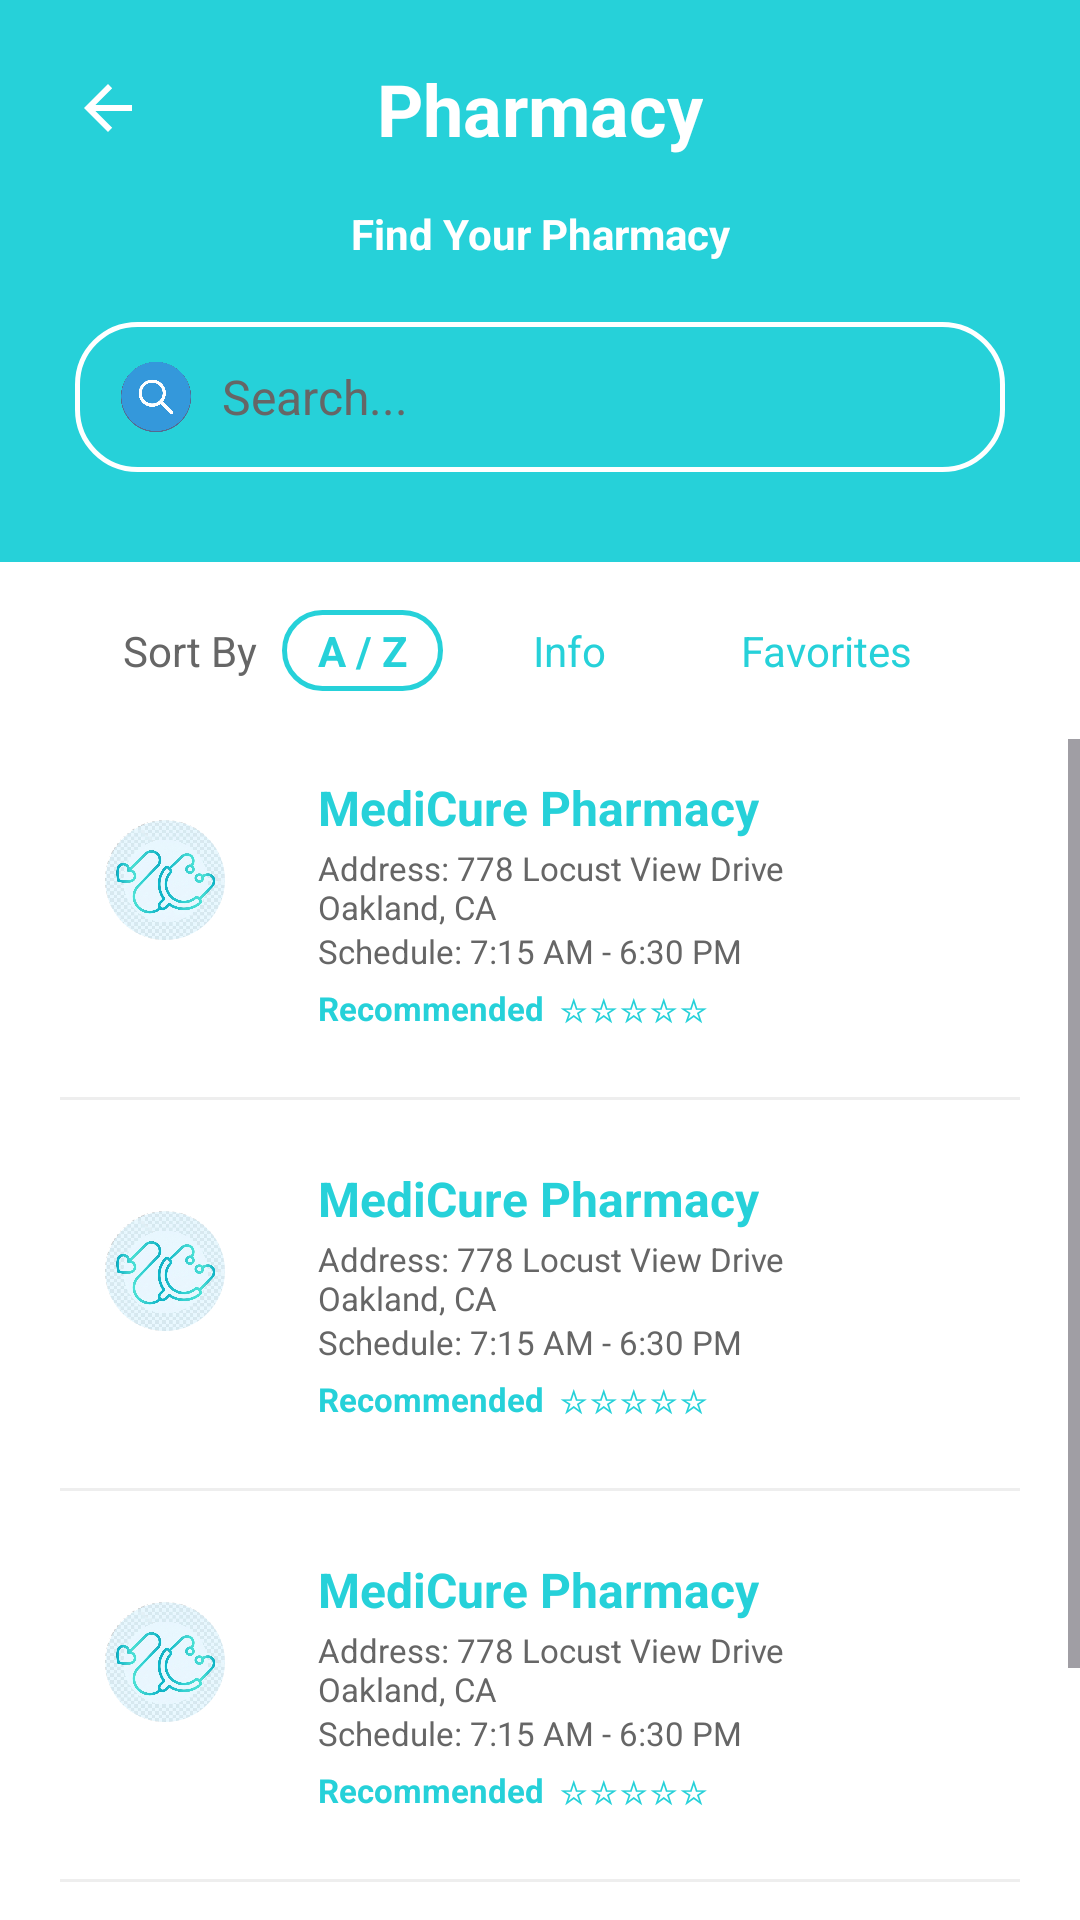

Icons on this 1080 × 1920 Android screen, each with the point to tap as [x,y]:
ab back: [108,108]
stethoscope heart: [165,880], [165,1271], [165,1662]
